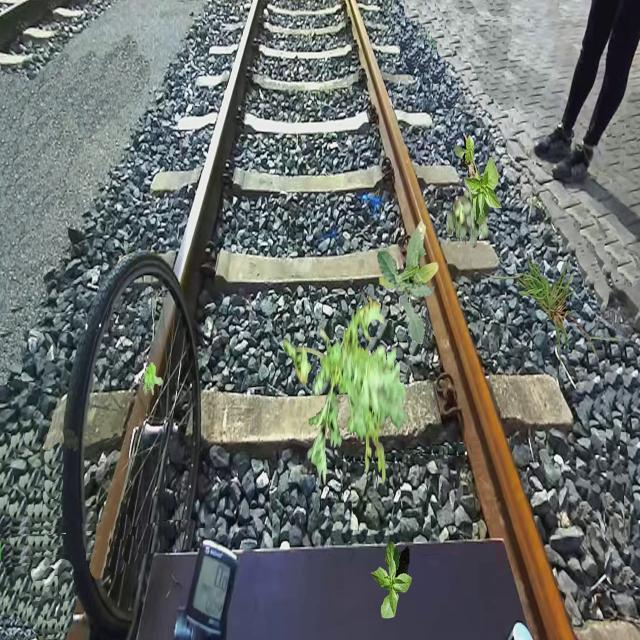Plant: (284, 292, 409, 488), (479, 253, 622, 372), (377, 220, 440, 344), (455, 132, 503, 227), (370, 539, 412, 619), (446, 182, 489, 248), (142, 362, 162, 395), (359, 372, 373, 392)
